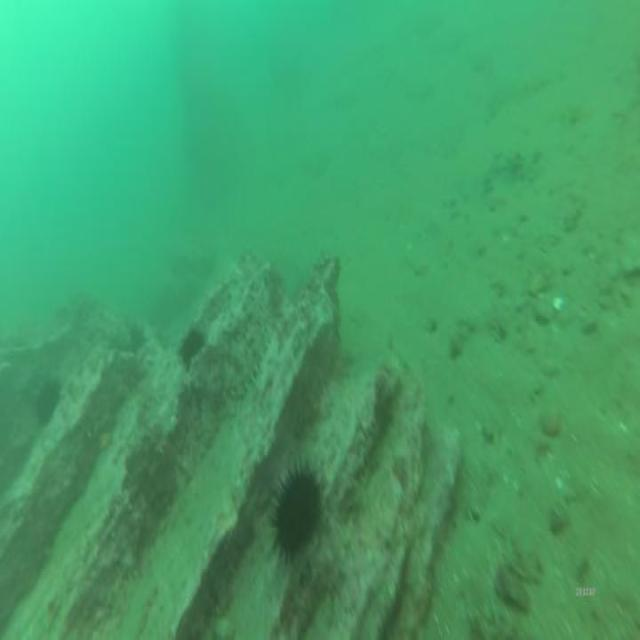echinus: (268, 458, 326, 568), (29, 373, 64, 431), (175, 322, 205, 370)
